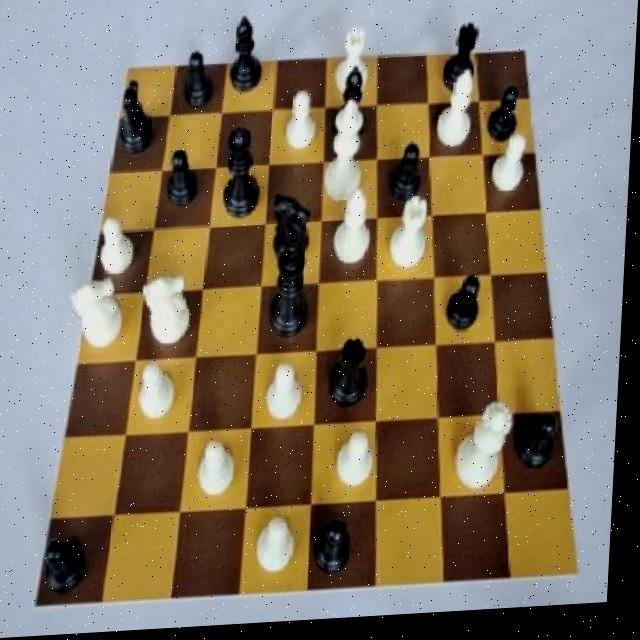bishop: (225, 15, 271, 103), (329, 69, 373, 155)
black-bishop: (262, 243, 322, 350)
black-king: (265, 188, 321, 280), (112, 72, 161, 160)
black-knight: (43, 532, 92, 605), (444, 272, 491, 348), (311, 513, 361, 584), (520, 413, 567, 487), (388, 144, 430, 219), (158, 150, 204, 217), (177, 47, 219, 119), (486, 91, 523, 155)
black-pawn: (215, 126, 268, 229)
black-queen: (325, 340, 377, 423), (437, 24, 484, 105)
black-rook: (435, 71, 486, 161), (332, 190, 380, 279)
white-bishop: (323, 99, 375, 211)
white-king: (141, 266, 198, 358), (76, 269, 132, 360)
white-knight: (130, 361, 185, 435), (198, 440, 249, 513), (256, 515, 306, 586), (336, 427, 383, 496), (278, 91, 322, 161), (264, 365, 312, 427), (96, 216, 143, 279), (488, 138, 532, 201)
white-pawn: (455, 398, 518, 506)
white-queen: (333, 22, 377, 103), (390, 203, 436, 280)
